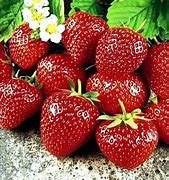Fresa: (39, 88, 99, 157), (95, 112, 159, 171), (94, 26, 148, 79), (87, 70, 150, 115), (61, 10, 110, 64), (37, 53, 87, 100), (1, 76, 43, 130), (9, 22, 49, 70)
